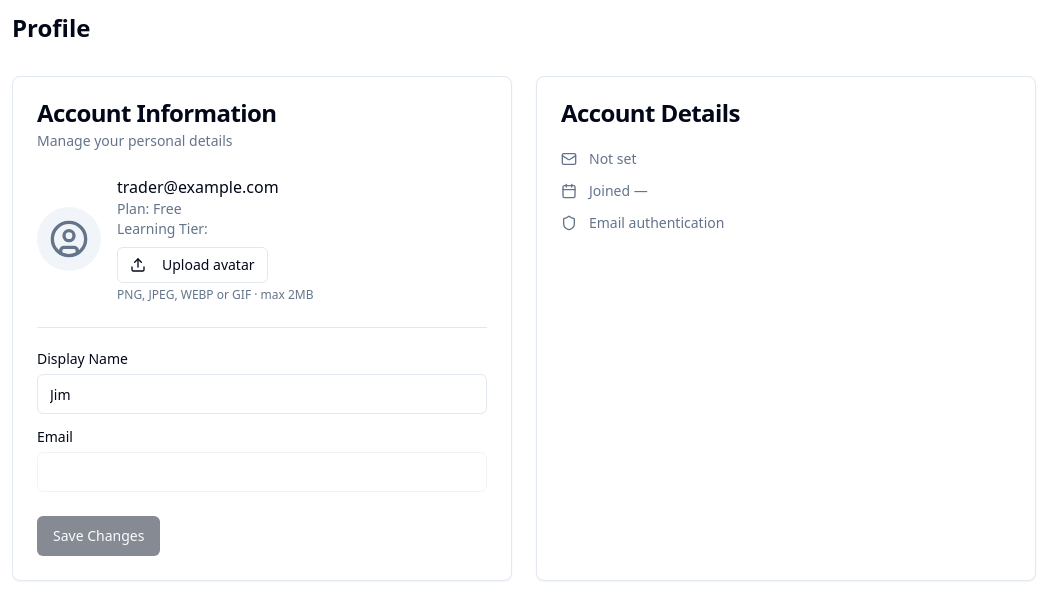
Test: Profile — display name › Save button enables when value is changed
Replace the text in the field showing "Jim" with "Jimmy" at (262, 394), box top-left (37, 374), bottom-right (487, 414)
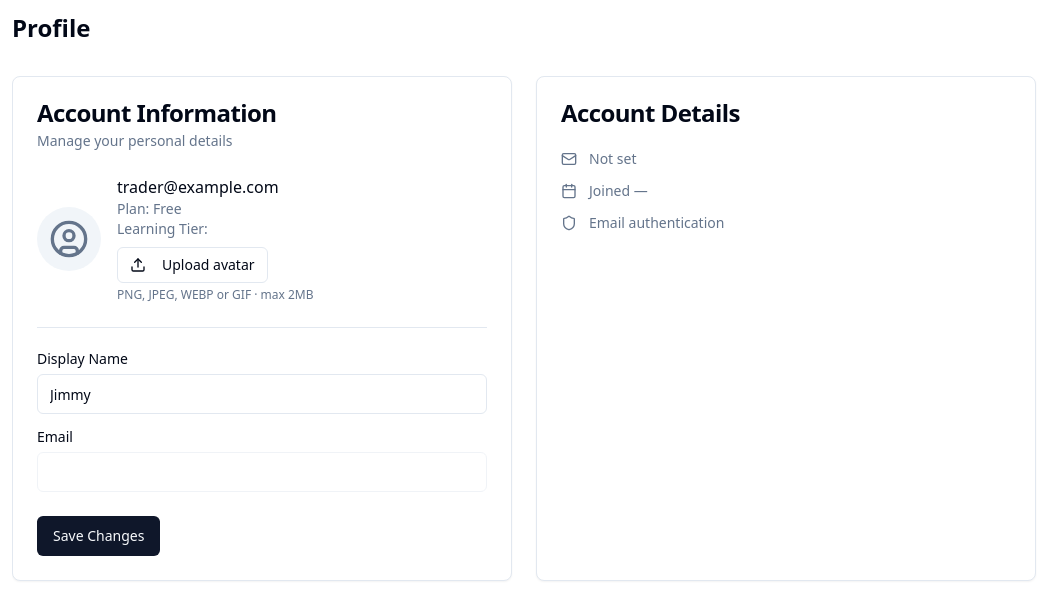
Expected: the button "Save Changes" is enabled, top-left (37, 516), bottom-right (160, 556)
